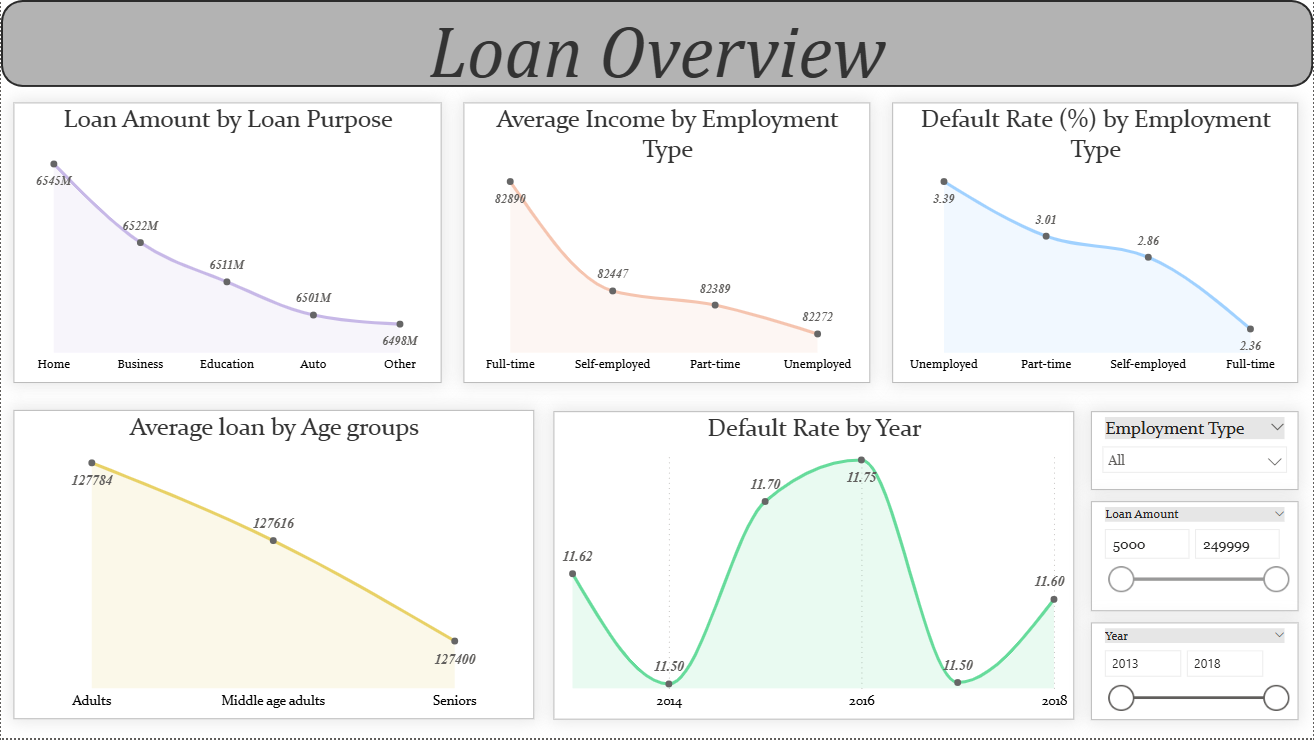

The page's visual inventory and layout, read from the dashboard file:
{"tool":"powerbi","page":{"name":"Page 1","canvas":[1280,720],"ordinal":0},"visuals":[{"type":"shape","box":[0,0,1280.2,84.9],"z":0},{"type":"lineChart","title":"Loan Amount by Loan Purpose","fields":{"Category":["Loan_default.LoanPurpose"],"Y":["Measures Table 1.Loan Amount by Purpose"]},"box":[12.4,99.5,417.2,273.6],"z":1000},{"type":"lineChart","title":"Average Income by Employment Type","fields":{"Y":["Measures Table 1.Average Income by Employment"],"Category":["Loan_default.EmploymentType"]},"box":[451.1,99.5,396.9,273.6],"z":2000},{"type":"lineChart","title":"Default Rate (%) by Employment Type","fields":{"Category":["Loan_default.EmploymentType"],"Y":["Measures Table 1.Default Rate by Employment Type"]},"box":[869.5,99.5,395.7,273.6],"z":3000},{"type":"lineChart","title":"Average loan by Age groups","fields":{"Y":["Measures Table 1.Average loan by Age groups"],"Category":["Loan_default.Age groups"]},"box":[12.4,400.3,507.7,301.9],"z":4000},{"type":"lineChart","title":"Default Rate by Year","fields":{"Category":["Loan_default.Year"],"Y":["Measures Table 1.Default Rate by Year"]},"box":[539.3,401.4,507.7,300.8],"z":5000},{"type":"slicer","fields":{"Values":["Loan_default.EmploymentType"]},"box":[1062.8,401.4,202.4,76.9],"z":6000},{"type":"slicer","fields":{"Values":["Loan_default.LoanAmount"]},"box":[1062.8,489,202.4,107.4],"z":7000},{"type":"slicer","fields":{"Values":["Loan_default.Year"]},"box":[1062.8,607.2,202.4,95],"z":8000}]}

Visuals, with their boxes in screenshot pixels (x1, y1, x2, y2), scaled from the page's 1280x720 canvas onto the 1314x741 screenshot:
shape: Rect(0, 0, 1313, 87)
"Loan Amount by Loan Purpose" lineChart: Rect(13, 102, 441, 384)
"Average Income by Employment Type" lineChart: Rect(463, 102, 871, 384)
"Default Rate (%) by Employment Type" lineChart: Rect(893, 102, 1299, 384)
"Average loan by Age groups" lineChart: Rect(13, 412, 534, 723)
"Default Rate by Year" lineChart: Rect(554, 413, 1075, 723)
slicer - Loan_default.EmploymentType: Rect(1091, 413, 1299, 492)
slicer - Loan_default.LoanAmount: Rect(1091, 503, 1299, 614)
slicer - Loan_default.Year: Rect(1091, 625, 1299, 723)
